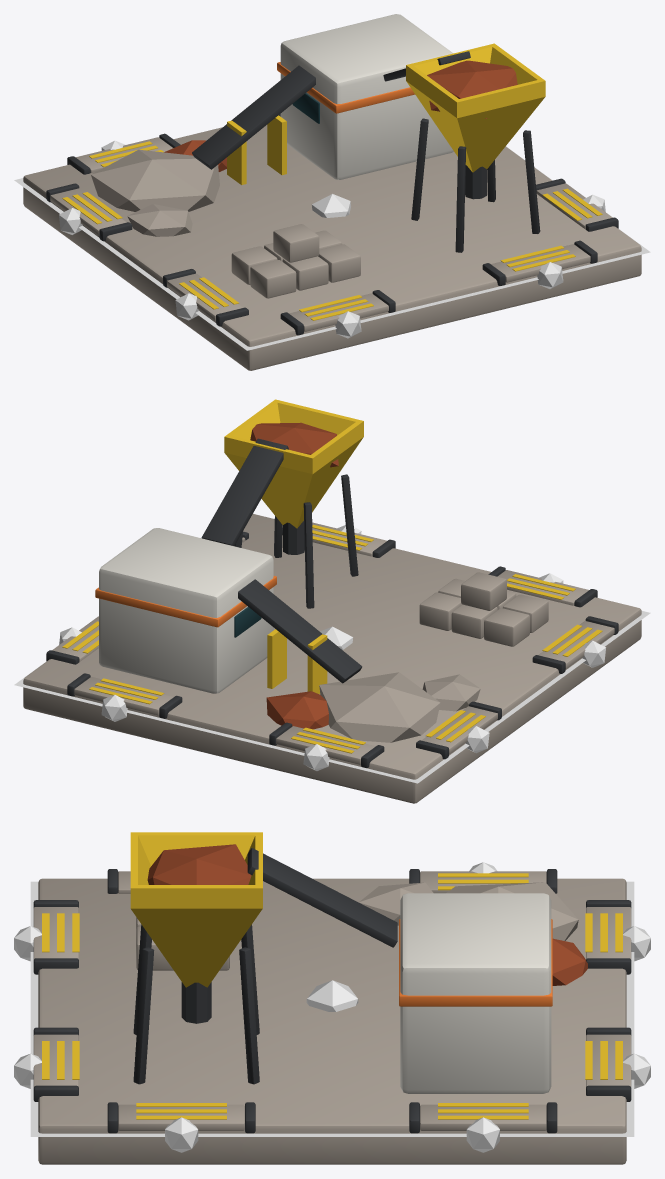
The model's file is concrete_extractor_2x2.gltf.
The picture shows the model from 3 angles, top to bottom: view 1: azimuth 30°, elevation 25°; view 2: azimuth 150°, elevation 25°; view 3: azimuth 270°, elevation 25°; orthographic projection. The views are drawn at different scales.
Parts seen in each view (by area): view 1: ConcreteExtractor, %P%Footprint, %V%AnchorOut.007+, %V%AnchorOut.006+, %V%AnchorOut.003+, %V%AnchorOut.002+, %V%AnchorOut+, %V%AnchorOut.004+, %P%Center, %P%AnchorOut.006, %P%AnchorOut.007; view 2: ConcreteExtractor, %P%Footprint, %V%AnchorOut.004+, %V%AnchorOut.005+, %V%AnchorOut.002+, %V%AnchorOut.003+, %V%AnchorOut.006+, %V%AnchorOut.007+, %V%AnchorOut.001+; view 3: ConcreteExtractor, %P%Footprint, %V%AnchorOut+, %V%AnchorOut.001+, %V%AnchorOut.005+, %V%AnchorOut.007+, %V%AnchorOut.006+, %V%AnchorOut.004+, %V%AnchorOut.003+, %P%Center, %P%AnchorOut, %P%AnchorOut.001 (+5 smaller).
Part boxes in pixels (left/top/right/bottom): ConcreteExtractor: left=23, top=14, right=641, bottom=370; %P%Footprint: left=14, top=146, right=650, bottom=350; %V%AnchorOut.007+: left=482, top=240, right=597, bottom=285; %V%AnchorOut.006+: left=280, top=290, right=395, bottom=335; %V%AnchorOut.003+: left=46, top=183, right=132, bottom=241; %V%AnchorOut.002+: left=163, top=269, right=248, bottom=326; %V%AnchorOut+: left=536, top=178, right=618, bottom=231; %V%AnchorOut.004+: left=67, top=133, right=180, bottom=174; %P%Center: left=312, top=194, right=350, bottom=217; %P%AnchorOut.006: left=335, top=311, right=361, bottom=338; %P%AnchorOut.007: left=537, top=262, right=563, bottom=288; ConcreteExtractor: left=23, top=399, right=641, bottom=803; %P%Footprint: left=14, top=611, right=650, bottom=783; %V%AnchorOut.004+: left=269, top=722, right=384, bottom=767; %V%AnchorOut.005+: left=67, top=673, right=182, bottom=718; %V%AnchorOut.002+: left=532, top=616, right=618, bottom=673; %V%AnchorOut.003+: left=416, top=701, right=501, bottom=759; %V%AnchorOut.006+: left=488, top=566, right=597, bottom=607; %V%AnchorOut.007+: left=282, top=522, right=395, bottom=557; %V%AnchorOut.001+: left=46, top=616, right=98, bottom=664; ConcreteExtractor: left=38, top=832, right=626, bottom=1164; %P%Footprint: left=30, top=881, right=634, bottom=1136; %V%AnchorOut+: left=107, top=1102, right=255, bottom=1133; %V%AnchorOut.001+: left=409, top=1102, right=557, bottom=1133; %V%AnchorOut.005+: left=585, top=1027, right=631, bottom=1101; %V%AnchorOut.007+: left=33, top=1027, right=79, bottom=1101; %V%AnchorOut.006+: left=33, top=900, right=79, bottom=974; %V%AnchorOut.004+: left=585, top=900, right=631, bottom=974; %V%AnchorOut.003+: left=409, top=869, right=557, bottom=893; %P%Center: left=306, top=980, right=358, bottom=1011; %P%AnchorOut: left=165, top=1117, right=198, bottom=1152; %P%AnchorOut.001: left=466, top=1117, right=499, bottom=1152.
Size of the model in its own units: 4.23 by 1.82 by 4.22.
